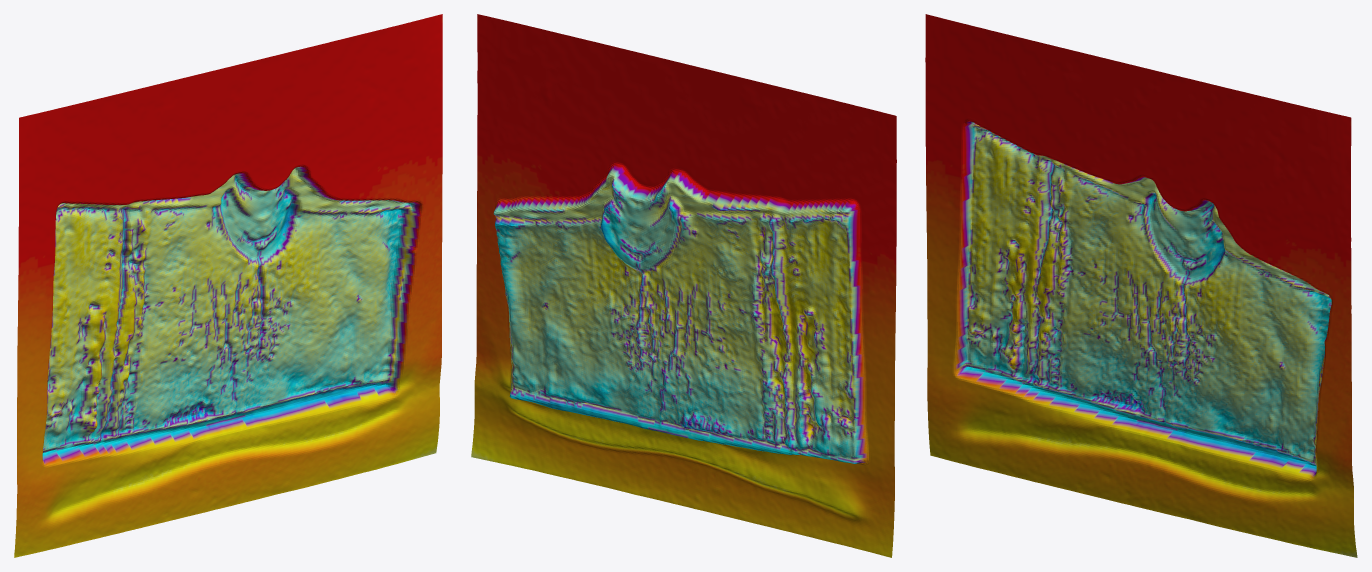
3 views of the same model, side by side, from view 1: azimuth 30°, elevation 25°; view 2: azimuth 150°, elevation 25°; view 3: azimuth 330°, elevation 25° (orthographic).
Visible parts, largest first — view 1: world; view 2: world; view 3: world.
Part boxes in pixels (x1=…): world: x1=14, y1=14, x2=442, y2=557; world: x1=471, y1=14, x2=896, y2=557; world: x1=925, y1=14, x2=1357, y2=557.
Bounding box in the file's own units: 299 × 299 × 18.
